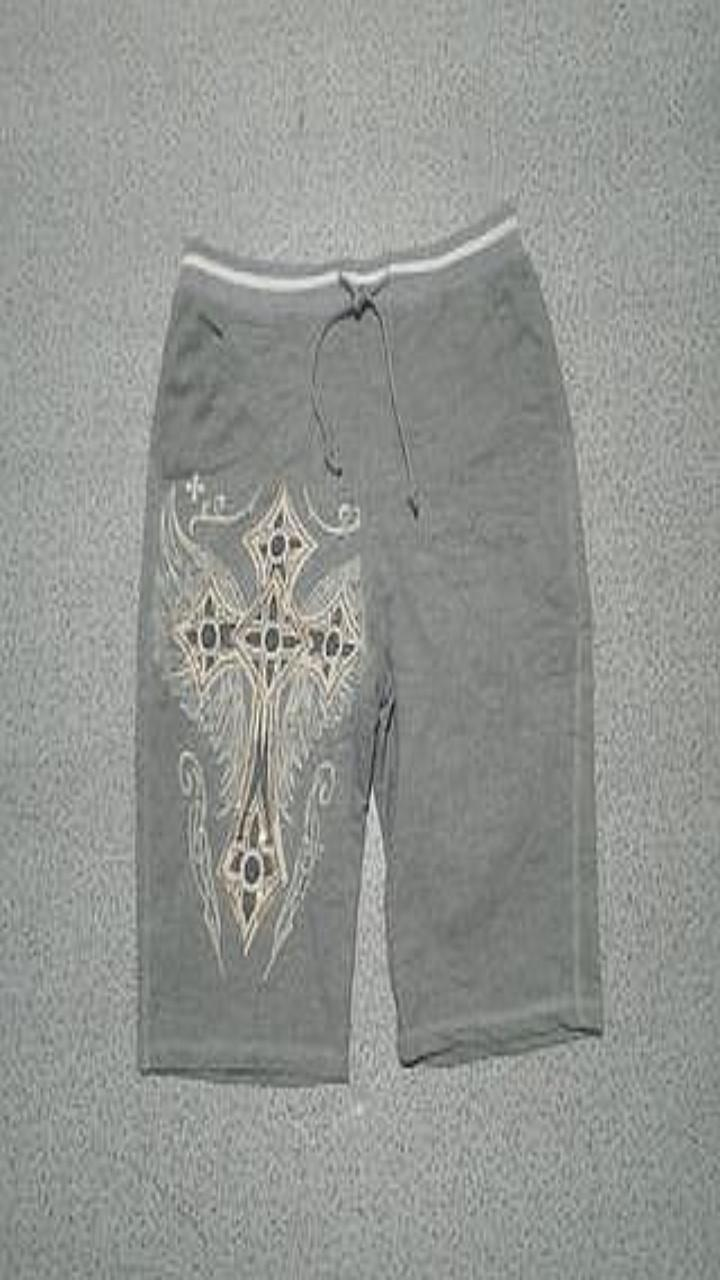Shorts: (136, 204, 602, 1084)
